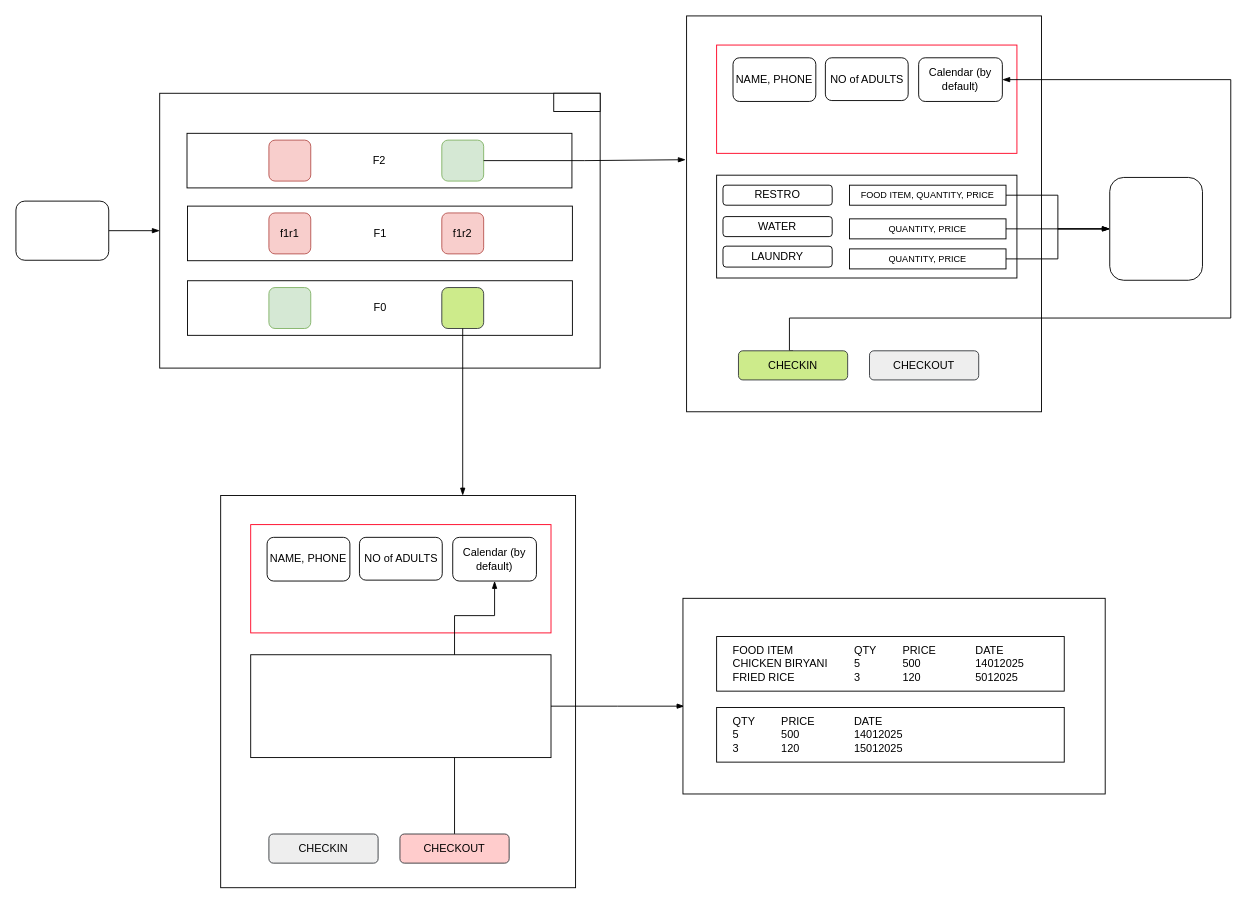
Some shapes in this 1254 by 904 pixel diagram are drawn without their labels. Here are the shapes that lost their labels. From the top down, the centre of each, then its label:
the point at 576,101: HOTEL
the point at 289,160: f2r1
the point at 462,160: f2f2
the point at 62,230: LOGIN
the point at 1155,228: Current date by default
the point at 289,308: f0r1
the point at 462,308: f0r2
